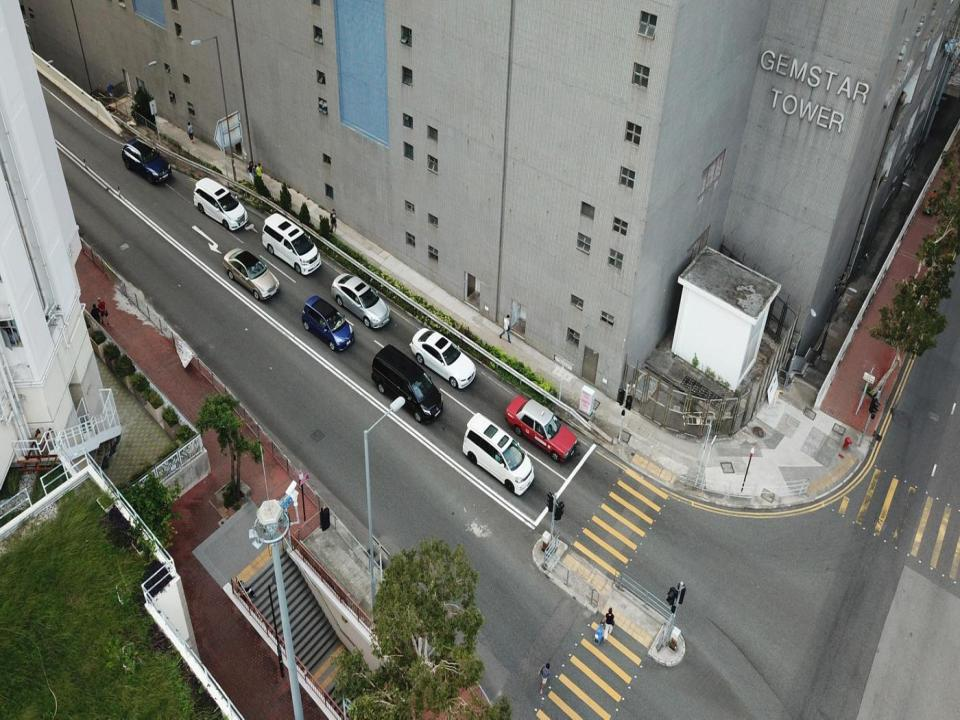car: (503, 395, 577, 461), (412, 327, 476, 390), (331, 272, 390, 329), (223, 246, 277, 300), (303, 295, 353, 351)
van: (461, 413, 533, 494), (371, 343, 442, 424), (262, 212, 321, 274), (194, 176, 247, 230), (121, 138, 172, 185)
